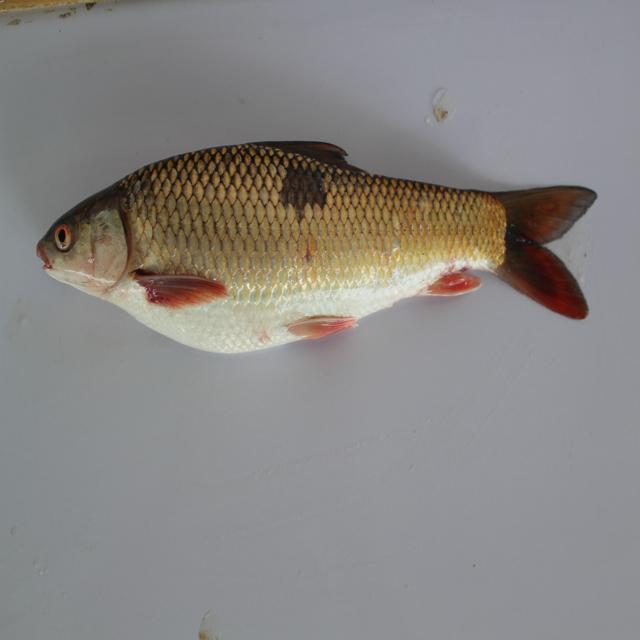Grass Carp: (41, 138, 594, 353)
